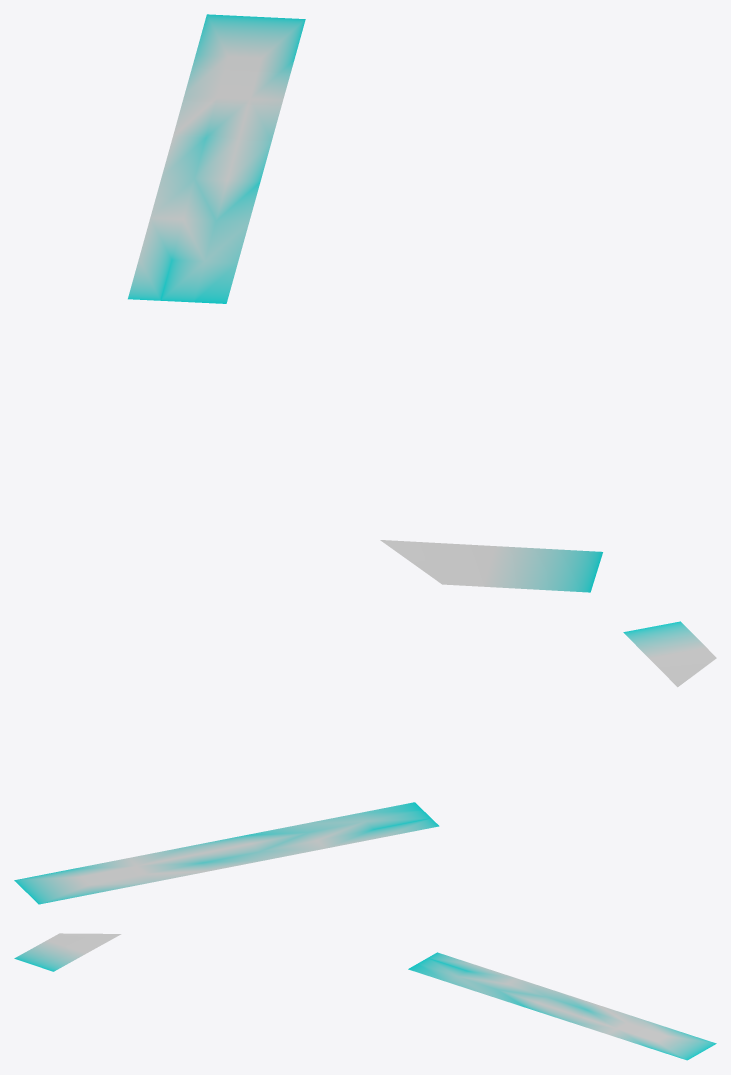
3 views of the same model, one above another, from view 1: azimuth 30°, elevation 25°; view 2: azimuth 150°, elevation 25°; view 3: azimuth 270°, elevation 25° (orthographic). The views are drawn at different scales.
Visible parts, largest first — view 1: SpaceCenter_Long3_GenerateRoad_Asphalt_PCGMesh_Decal_Mesh_x1; view 2: SpaceCenter_Long3_GenerateRoad_Asphalt_PCGMesh_Decal_Mesh_x1; view 3: SpaceCenter_Long3_GenerateRoad_Asphalt_PCGMesh_Decal_Mesh_x1.
Part boxes in pixels (x1=…): SpaceCenter_Long3_GenerateRoad_Asphalt_PCGMesh_Decal_Mesh_x1: x1=128, y1=14, x2=602, y2=592; SpaceCenter_Long3_GenerateRoad_Asphalt_PCGMesh_Decal_Mesh_x1: x1=14, y1=621, x2=716, y2=904; SpaceCenter_Long3_GenerateRoad_Asphalt_PCGMesh_Decal_Mesh_x1: x1=14, y1=933, x2=716, y2=1060.
Size of the model in its own units: 509 by 205 by 5.69.
